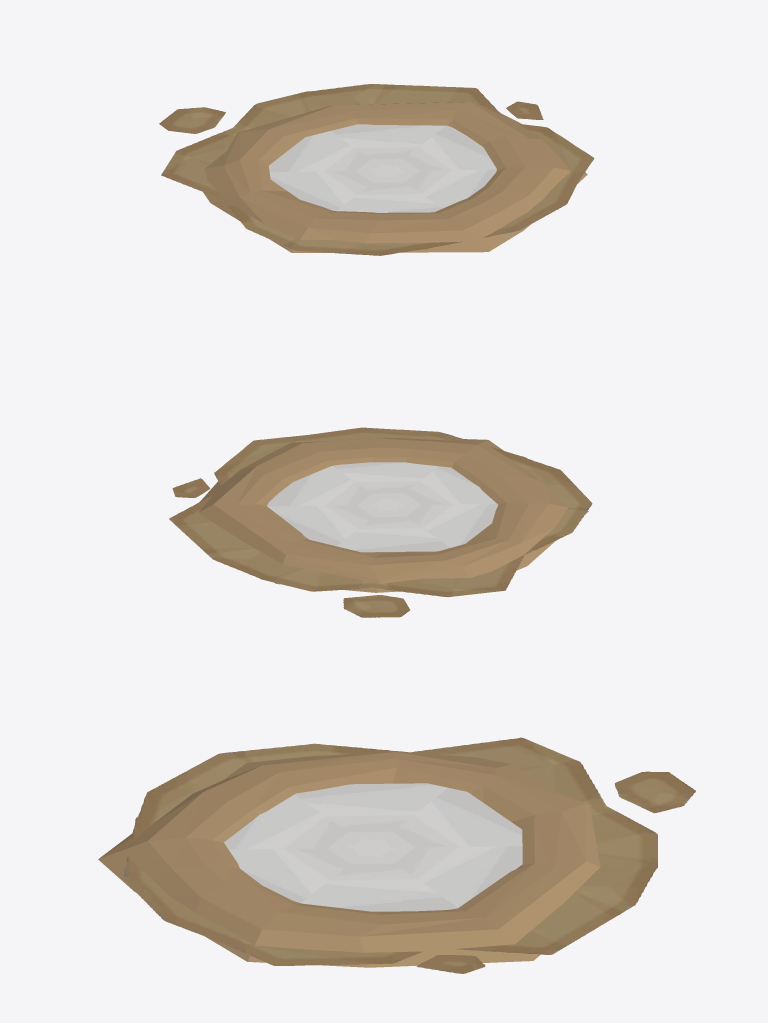
The model's file is mudPit.fbx.
3 views of the same model, one above another, from view 1: azimuth 30°, elevation 25°; view 2: azimuth 150°, elevation 25°; view 3: azimuth 270°, elevation 25° (orthographic). The views are drawn at different scales.
Parts seen in each view (by area): view 1: mudPit, mudPitPool, groundDecal; view 2: mudPit, mudPitPool, groundDecal; view 3: mudPit, mudPitPool, groundDecal.
Part boxes in pixels (x1,y1,x2,y2): mudPit: (203, 101, 587, 252); mudPitPool: (269, 124, 496, 212); groundDecal: (159, 84, 594, 255); mudPit: (198, 438, 588, 592); mudPitPool: (267, 462, 497, 552); groundDecal: (169, 427, 592, 617); mudPit: (98, 752, 600, 967); mudPitPool: (224, 783, 522, 911); groundDecal: (123, 737, 695, 973).
Bounding box in the file's own units: 4 × 0.1431 × 4.
Materials: 3 (2 with a texture image).
